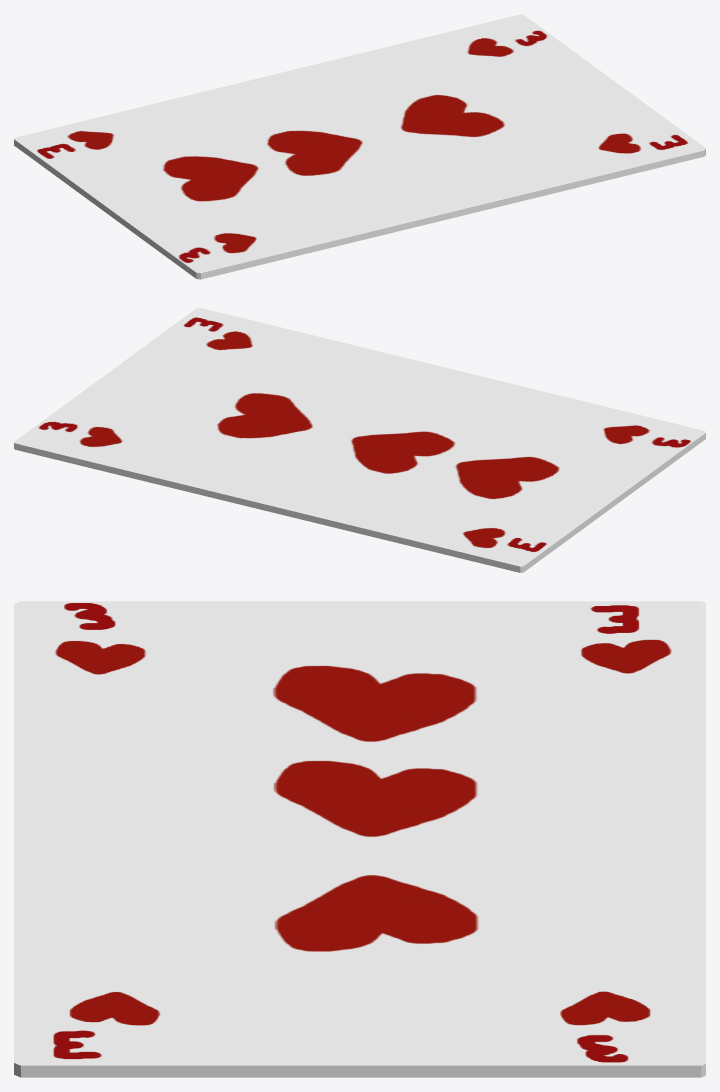
File: 3_Hearts.fbx
The picture shows the model from 3 angles, top to bottom: view 1: azimuth 30°, elevation 25°; view 2: azimuth 150°, elevation 25°; view 3: azimuth 270°, elevation 25°; orthographic projection. The views are drawn at different scales.
Visible parts, largest first — view 1: hearts3; view 2: hearts3; view 3: hearts3.
Part boxes in pixels (x1=…): hearts3: x1=14, y1=14, x2=705, y2=279; hearts3: x1=14, y1=308, x2=705, y2=572; hearts3: x1=14, y1=601, x2=705, y2=1077.
Bounding box in the file's own units: 540 × 6.56 × 340.
